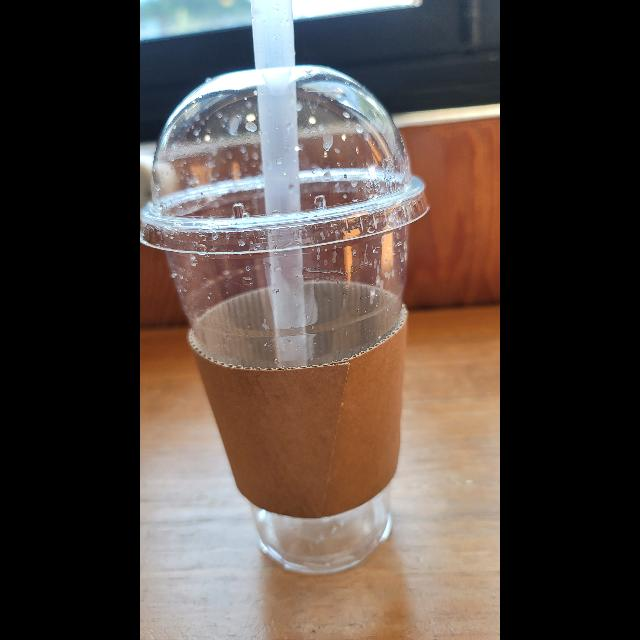plastic_cup_lid: (140, 64, 432, 572), (140, 66, 432, 256)
straw: (244, 1, 316, 366)
